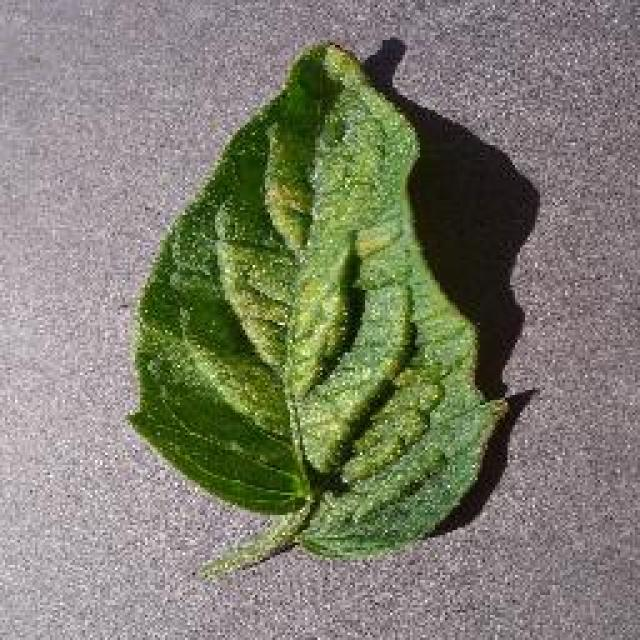Tomato___Spider_mites Two-spotted_spider_mite: (130, 42, 505, 572)
